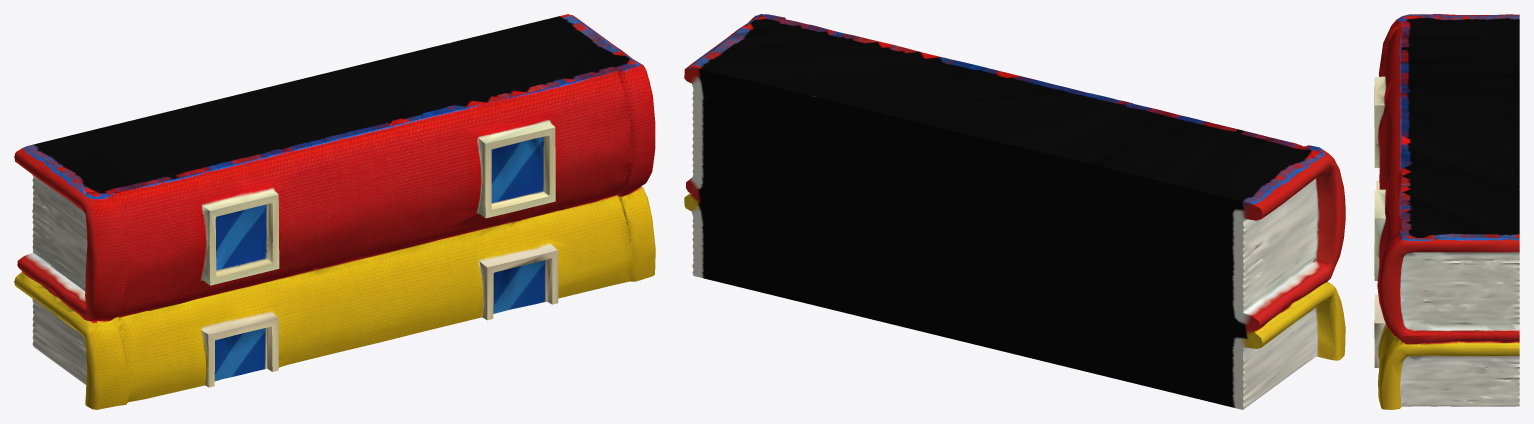
Rendered from 5-upper-walls-front.fbx.
3 renders of one model, left to right at view 1: azimuth 30°, elevation 25°; view 2: azimuth 150°, elevation 25°; view 3: azimuth 270°, elevation 25°, orthographic. The views are drawn at different scales.
Parts seen in each view (by area): view 1: upper-walls-front; view 2: upper-walls-front; view 3: upper-walls-front.
Part boxes in pixels (box(x1,y1,x2,y2)): upper-walls-front: box(14, 14, 655, 409); upper-walls-front: box(684, 14, 1345, 409); upper-walls-front: box(1374, 14, 1519, 409).
Size of the model in its own units: 10562 by 3625 by 2823.
Materials: 1 (1 with a texture image).
